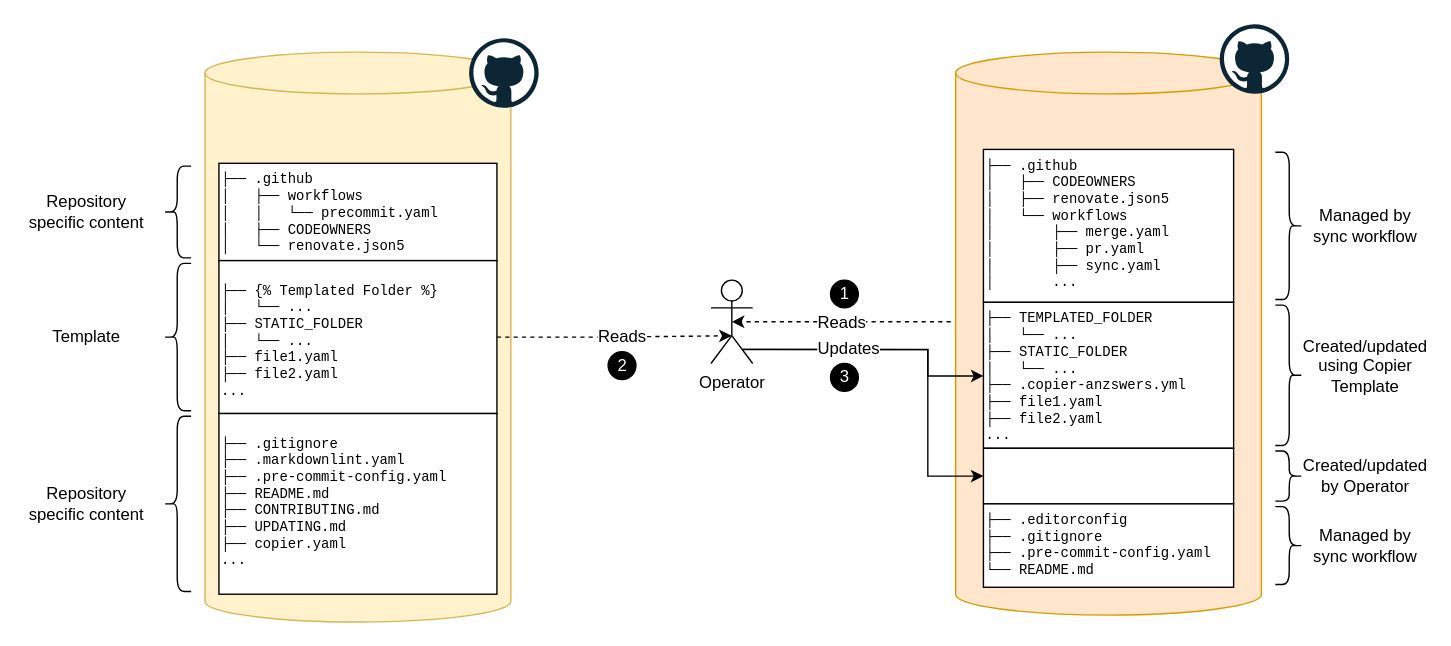
Image size: 1451x646. Some labels were removed from this diagram. The box of each missing label's shape, as (x1, y1, x2, y2) in pixels:
<PRODUCT>-<TYPE>-<DOMAIN>: (954, 51, 1261, 615)
FO-<TYPE>-Copier: (204, 51, 511, 622)
├── values.yaml ├── version.json: (982, 447, 1234, 504)
